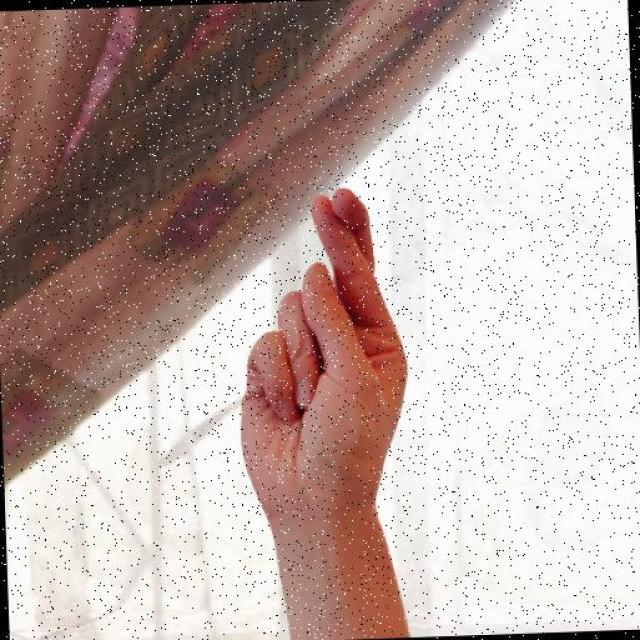R: (226, 184, 417, 521)
